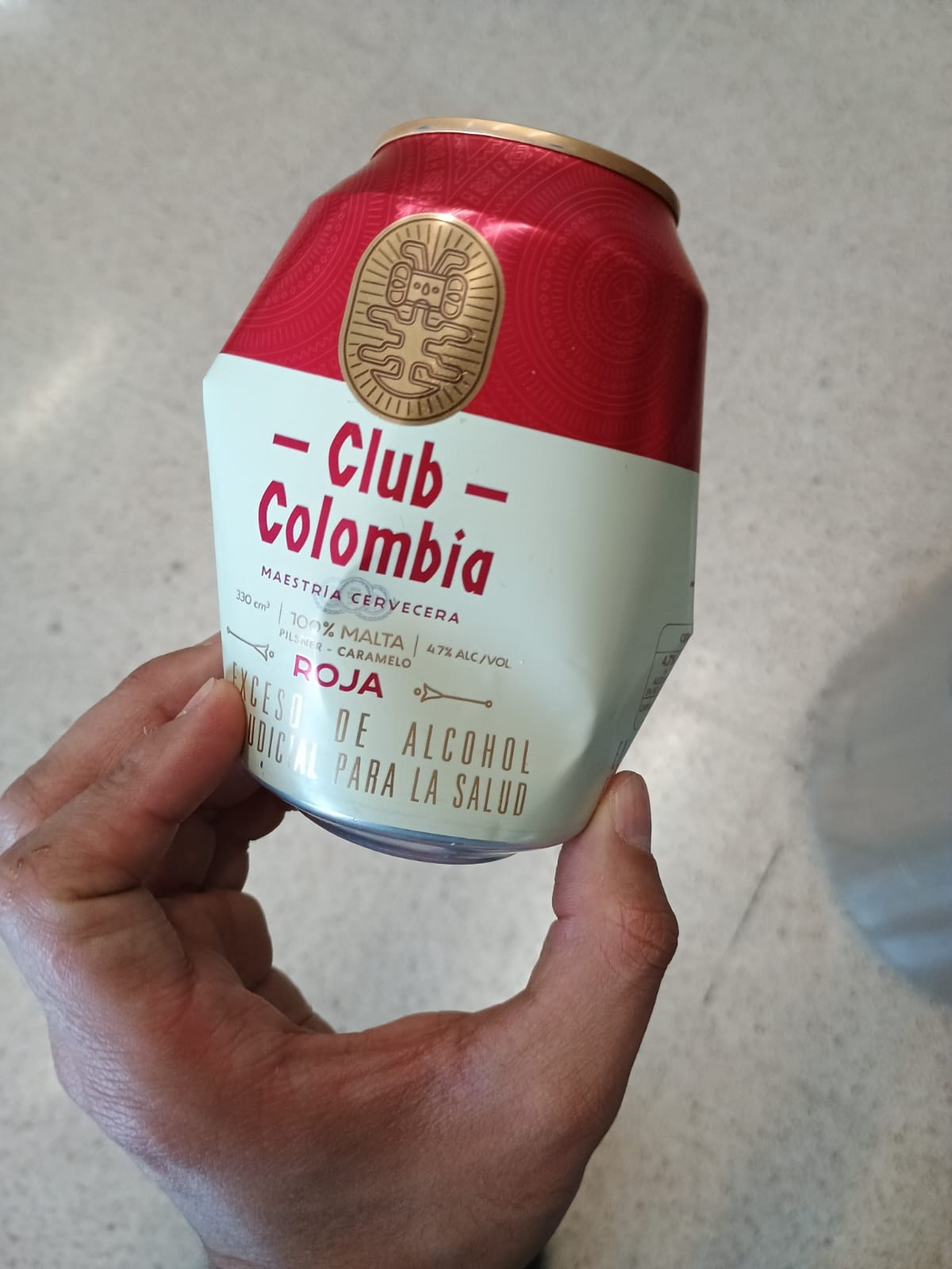Metal: (202, 104, 710, 862)
